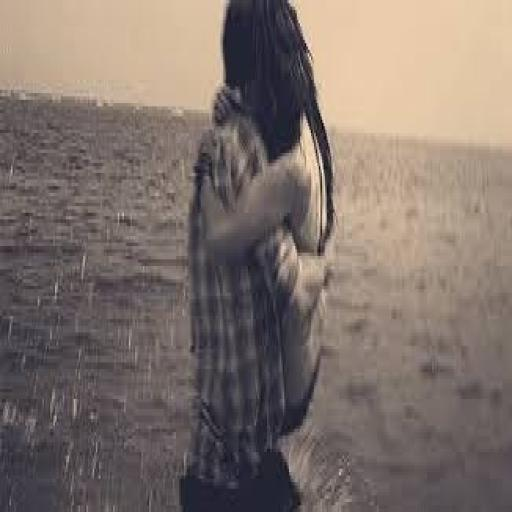hugging: (179, 3, 338, 509)
